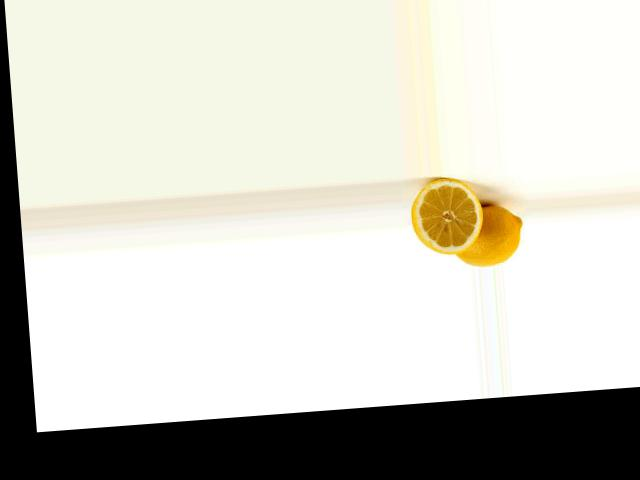lemon: (449, 195, 527, 268)
